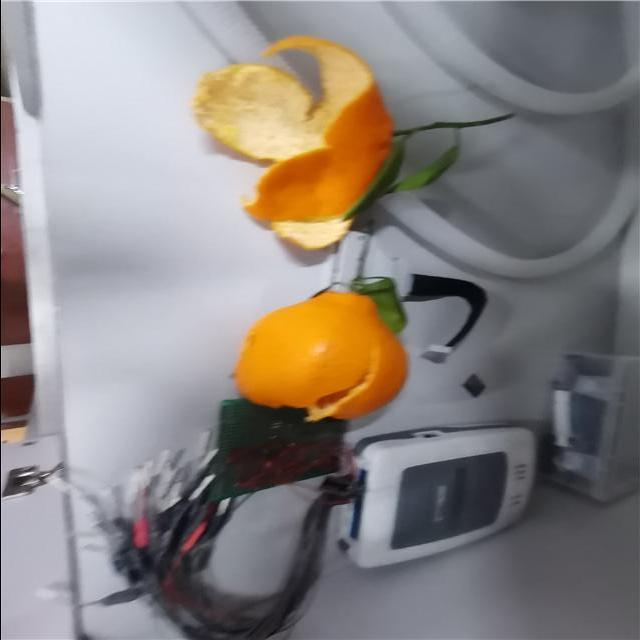orange peel: (185, 35, 395, 253), (238, 289, 413, 416)
